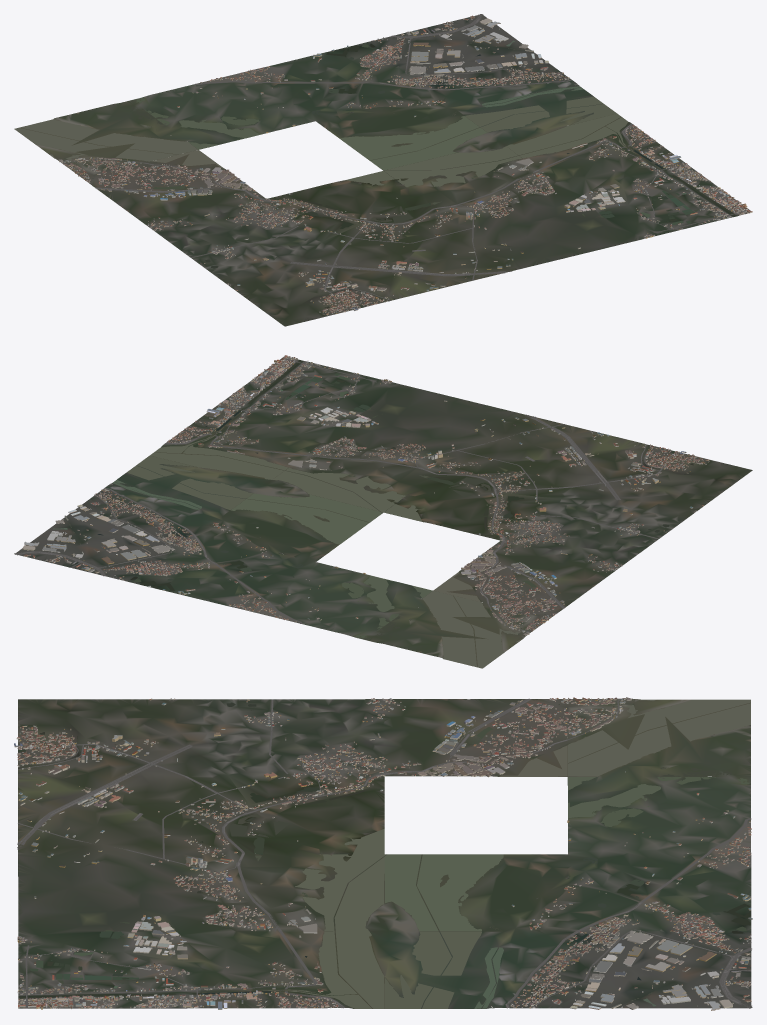
3 renders of one model, top to bottom at view 1: azimuth 30°, elevation 25°; view 2: azimuth 150°, elevation 25°; view 3: azimuth 270°, elevation 25°, orthographic. The views are drawn at different scales.
Parts seen in each view (by area): view 1: ground, water, buildings, roads; view 2: ground, water, buildings, roads; view 3: ground, water, buildings, roads.
Part boxes in pixels (x1,y1,x2,y2): ground: (14, 14, 750, 326); water: (14, 40, 737, 308); buildings: (59, 15, 752, 315); roads: (62, 14, 749, 308); ground: (14, 356, 752, 667); water: (53, 360, 693, 668); buildings: (22, 355, 709, 635); roads: (14, 358, 677, 632); ground: (18, 698, 751, 1008); water: (18, 699, 750, 1008); buildings: (14, 697, 752, 1010); roads: (17, 698, 752, 1008).
Size of the model in its own units: 5659 by 64.25 by 5653.
